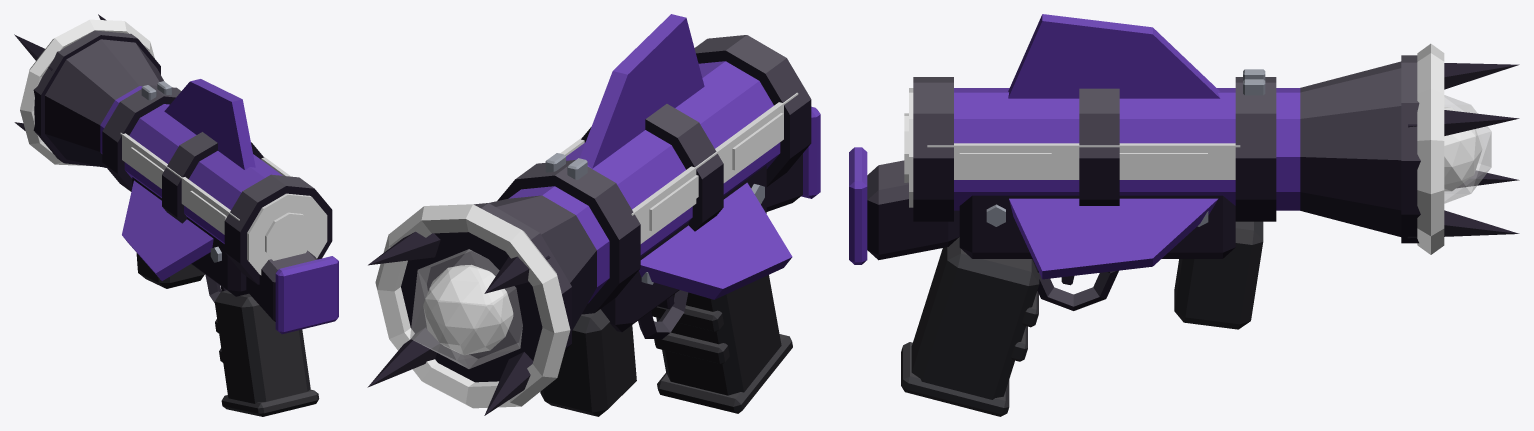
Rendered from Ion.fbx.
3 views of the same model, side by side, from view 1: azimuth 30°, elevation 25°; view 2: azimuth 150°, elevation 25°; view 3: azimuth 270°, elevation 25° (orthographic). The views are drawn at different scales.
Parts seen in each view (by area): view 1: Body, Halo_Glow, Accent_Glow; view 2: Body, Halo_Glow, Accent_Glow; view 3: Body, Halo_Glow, Accent_Glow.
Boxes of the visible parts, bbox=[...] form: Body: bbox=[14, 14, 338, 416]; Halo_Glow: bbox=[20, 19, 327, 275]; Accent_Glow: bbox=[130, 147, 312, 260]; Body: bbox=[367, 14, 820, 416]; Halo_Glow: bbox=[375, 92, 798, 408]; Accent_Glow: bbox=[423, 113, 783, 355]; Body: bbox=[849, 14, 1519, 416]; Halo_Glow: bbox=[909, 43, 1491, 254]; Accent_Glow: bbox=[904, 107, 1482, 191].
Size of the model in its own units: 1.35 by 2.29 by 3.64.
